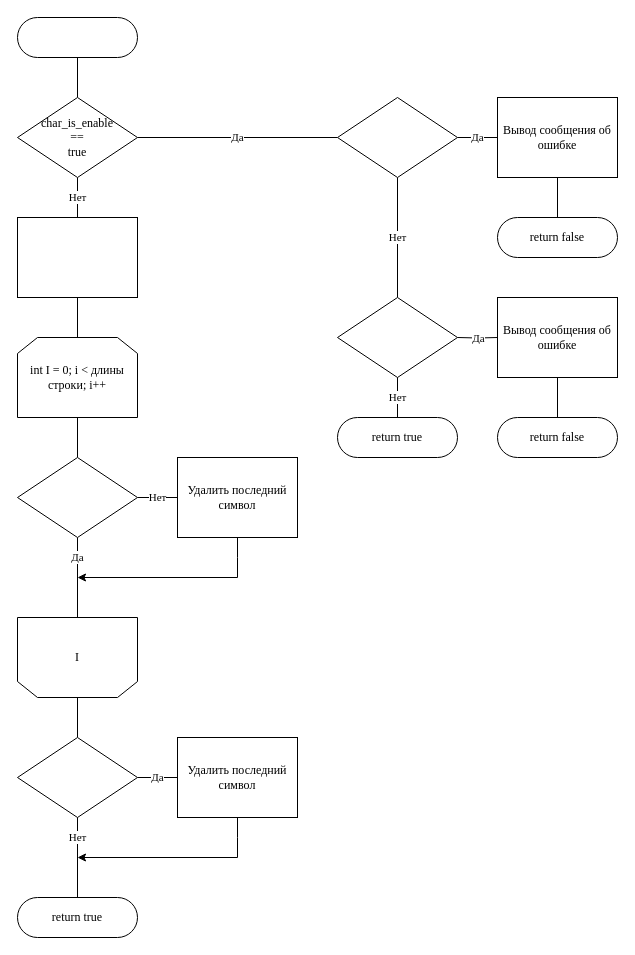
The diagram is 635 pixels wide and 955 high, and some of its shapes have lost their labels. The box of each missing label's shape, as (x1, y1, x2, y2) in pixels:
check(): (16, 16, 138, 58)
i - символ от 0 до 9: (16, 456, 138, 538)
Длина строки > 1: (336, 96, 458, 178)
Длина строки не 0 и символ не от 0 до 128: (336, 296, 458, 378)
Значение в поле > 200000000: (16, 736, 138, 818)
Инициализация строковой переменной, значение поля: (16, 216, 138, 298)
